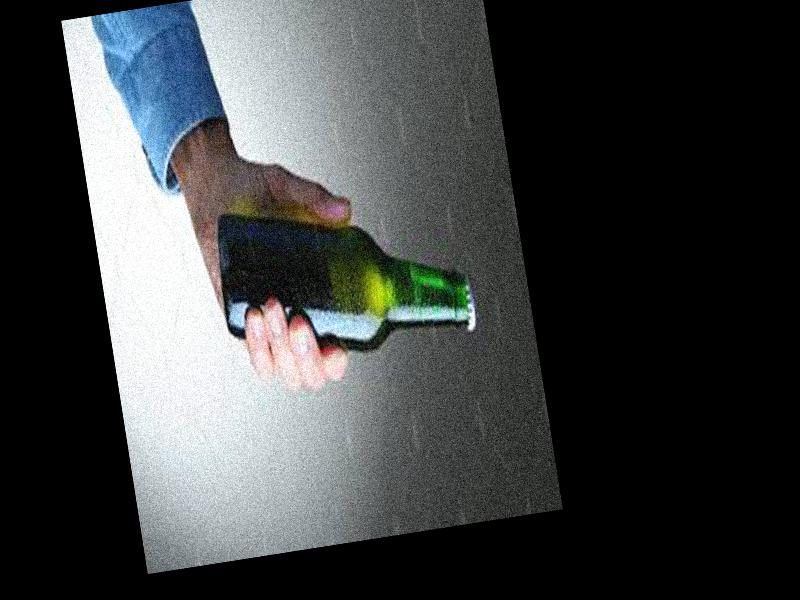Beer: (208, 175, 482, 371)
